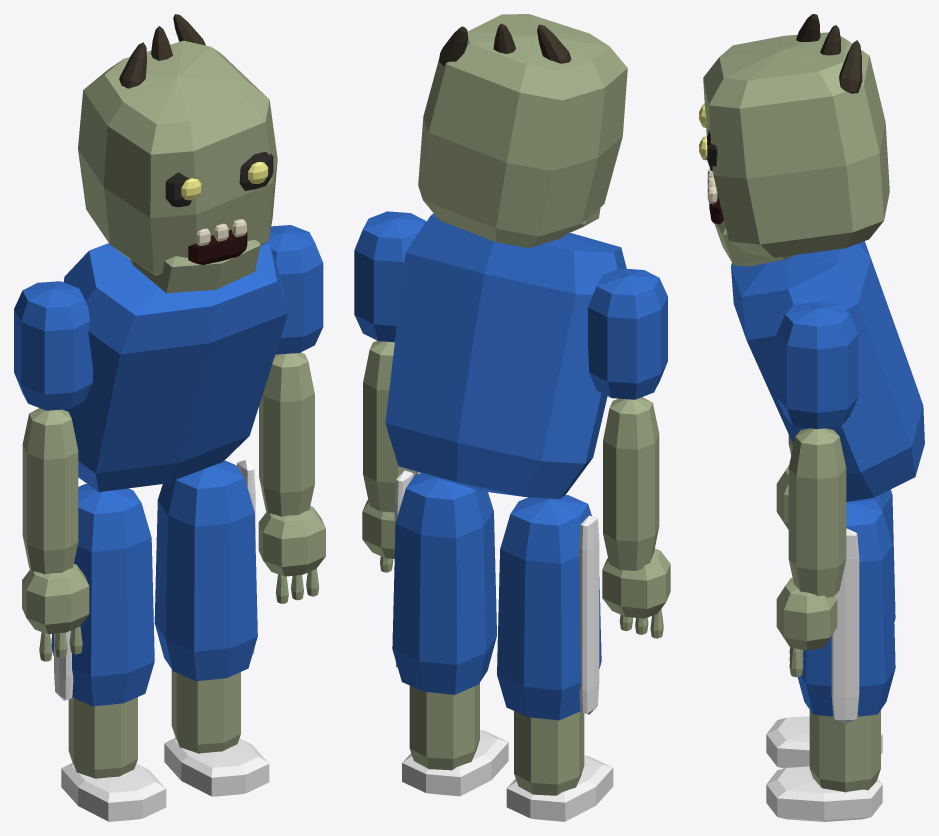
File: mon-runner-1.glb
3 renders of one model, left to right at view 1: azimuth 30°, elevation 25°; view 2: azimuth 150°, elevation 25°; view 3: azimuth 270°, elevation 25°, orthographic.
Visible parts, largest first — view 1: head, torso, leg-left, leg-right, arm-right, arm-left; view 2: torso, head, leg-right, leg-left, arm-right, arm-left; view 3: head, leg-left, arm-left, torso, leg-right, arm-right.
Boxes of the visible parts, left/top/right/bottom form: head: left=78, top=14, right=277, bottom=293; torso: left=63, top=242, right=287, bottom=491; leg-left: left=154, top=460, right=269, bottom=796; leg-right: left=51, top=484, right=166, bottom=821; arm-right: left=14, top=281, right=92, bottom=661; arm-left: left=258, top=225, right=325, bottom=603; torso: left=385, top=213, right=626, bottom=498; head: left=418, top=14, right=627, bottom=248; leg-right: left=497, top=494, right=613, bottom=821; leg-left: left=392, top=470, right=508, bottom=796; arm-right: left=588, top=268, right=670, bottom=638; arm-left: left=354, top=211, right=426, bottom=572; head: left=699, top=14, right=889, bottom=266; leg-left: left=766, top=499, right=895, bottom=821; arm-left: left=776, top=302, right=858, bottom=677; torso: left=731, top=241, right=924, bottom=501; leg-right: left=766, top=489, right=895, bottom=768; arm-right: left=776, top=435, right=793, bottom=529.
Bounding box in the file's own units: 0.9745 × 2.4 × 0.6468.
